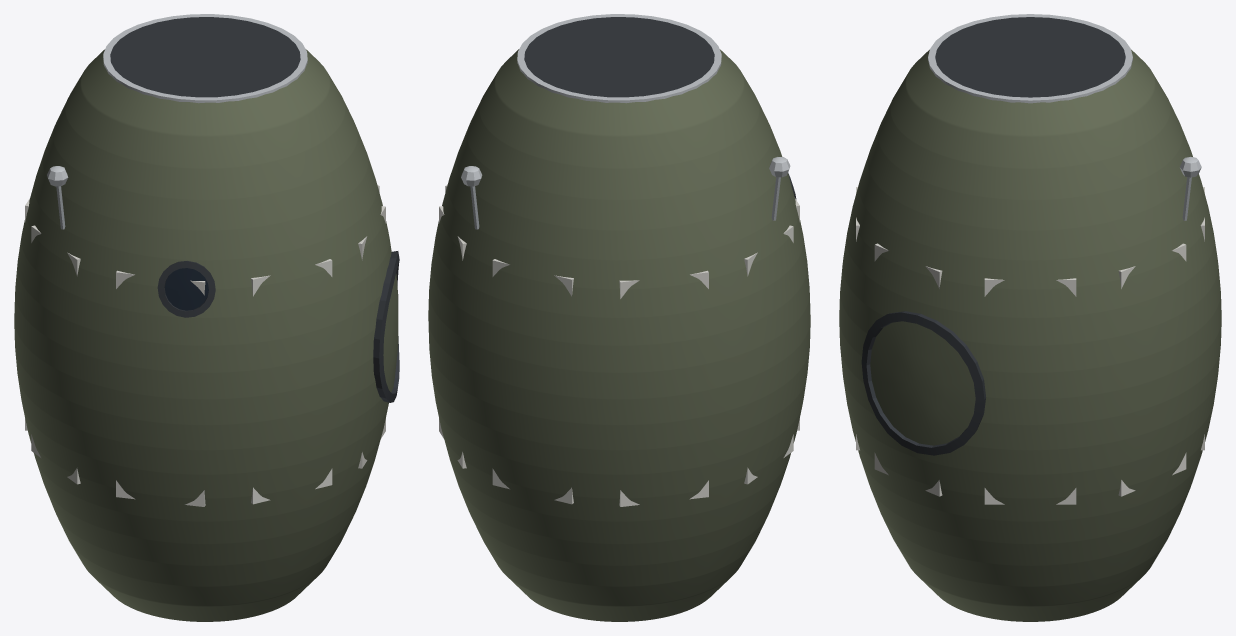
Rendered from soyuz_orbital_module.glb.
The picture shows the model from 3 angles, left to right: view 1: azimuth 30°, elevation 25°; view 2: azimuth 150°, elevation 25°; view 3: azimuth 270°, elevation 25°; orthographic projection.
Parts seen in each view (by area): view 1: body, slot_stowage__racks; view 2: body, slot_stowage__racks; view 3: body, slot_stowage__racks.
Part boxes in pixels (bbox=[...]): body: bbox=[14, 14, 399, 621]; slot_stowage__racks: bbox=[25, 184, 385, 506]; body: bbox=[428, 14, 810, 621]; slot_stowage__racks: bbox=[439, 184, 799, 506]; body: bbox=[839, 14, 1221, 621]; slot_stowage__racks: bbox=[856, 187, 1204, 504].
Bounding box in the file's own units: 1.73 × 2.6 × 1.72.
